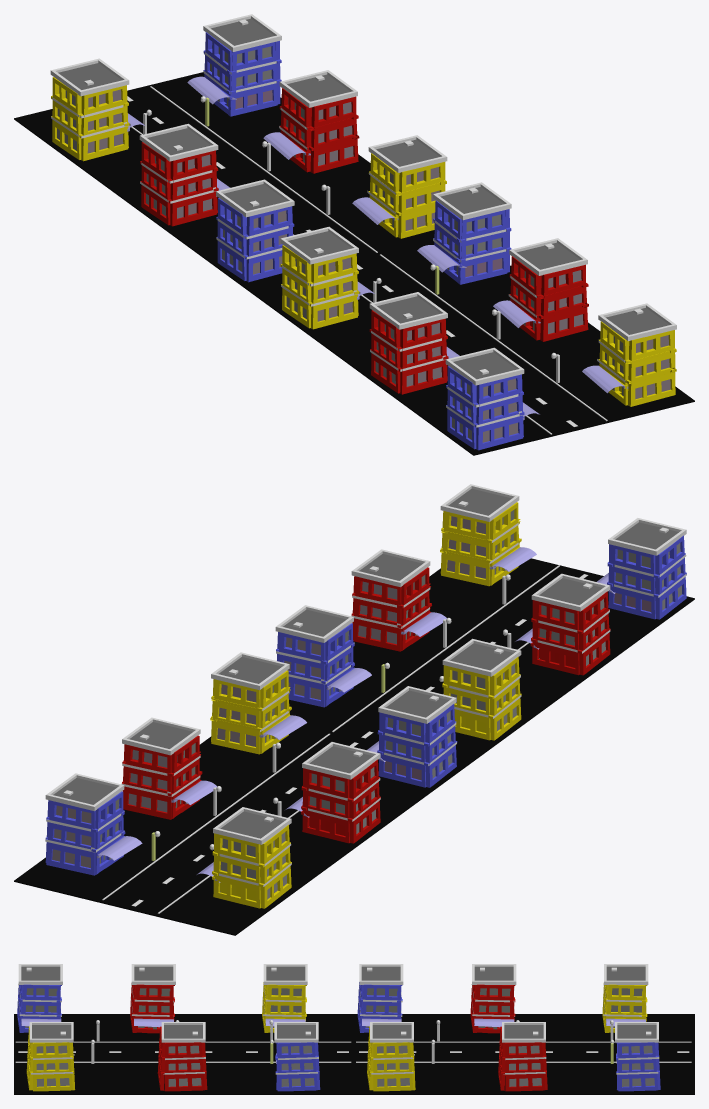
Rendered from sceneCity.fbx.
3 views of the same model, one above another, from view 1: azimuth 30°, elevation 25°; view 2: azimuth 150°, elevation 25°; view 3: azimuth 270°, elevation 25° (orthographic). The views are drawn at different scales.
Parts seen in each view (by area): view 1: Cube, Cube.112, Cube.110, Cube.207, Cube.106, Cube.019, Cube.146, Cube.158, Cube.024, Cube.047, Cube.203, Cube.068 (+46 smaller); view 2: Cube.112, Cube, Cube.205, Cube.108, Cube.021, Cube.143, Cube.155, Cube.174, Cube.188, Cube.085, Cube.016, Cube.128 (+44 smaller); view 3: Cube, Cube.112, Cube.069, Cube.194, Cube.172, Cube.186, Cube.091, Cube.083, Cube.145, Cube.023, Cube.130, Cube.157 (+48 smaller).
Boxes of the visible parts, x1,y1,x2,y2 form: Cube: (243, 240, 694, 455); Cube.112: (14, 72, 434, 287); Cube.110: (538, 265, 588, 341); Cube.207: (309, 96, 359, 173); Cube.106: (626, 330, 676, 406); Cube.019: (475, 375, 523, 450); Cube.146: (169, 151, 217, 226); Cube.158: (80, 85, 128, 161); Cube.024: (399, 319, 446, 394); Cube.047: (309, 254, 357, 329); Cube.203: (396, 162, 446, 238); Cube.068: (456, 210, 507, 284); Cube.112: (14, 726, 464, 935); Cube: (289, 558, 694, 767); Cube.205: (210, 679, 261, 754); Cube.108: (440, 511, 491, 586); Cube.021: (531, 600, 579, 675); Cube.143: (301, 768, 349, 843); Cube.155: (212, 834, 260, 908); Cube.174: (46, 800, 97, 875); Cube.188: (122, 745, 173, 819); Cube.085: (352, 576, 403, 651); Cube.016: (607, 545, 655, 619); Cube.128: (377, 713, 426, 787); Cube: (14, 1014, 354, 1094); Cube.112: (354, 1014, 694, 1094); Cube.069: (275, 1042, 317, 1091); Cube.194: (371, 1042, 413, 1091); Cube.172: (616, 1042, 658, 1091); Cube.186: (503, 1042, 545, 1091); Cube.091: (30, 1042, 72, 1091); Cube.083: (163, 1042, 204, 1091); Cube.145: (473, 984, 515, 1033); Cube.023: (132, 984, 174, 1033); Cube.130: (360, 984, 402, 1032); Cube.157: (605, 984, 647, 1032).
Size of the model in its own units: 17792 by 5569 by 63976.
